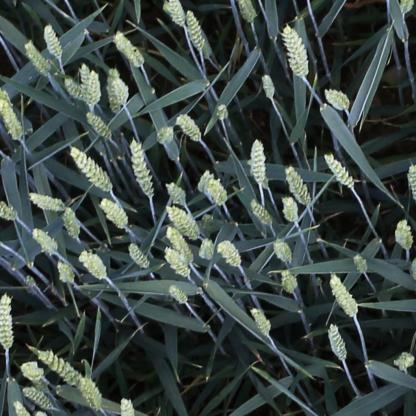whd: (70, 146, 112, 191), (37, 349, 84, 386), (199, 167, 236, 210), (130, 138, 154, 198), (246, 134, 272, 189), (330, 273, 360, 319), (284, 25, 308, 80), (0, 87, 23, 141), (324, 151, 356, 189), (0, 295, 21, 352), (167, 204, 200, 240), (167, 225, 196, 265), (114, 31, 145, 67), (286, 164, 312, 206), (109, 68, 134, 109), (325, 322, 348, 363), (24, 40, 51, 74), (81, 379, 105, 415), (164, 248, 192, 278), (43, 22, 64, 62), (100, 198, 128, 228), (86, 110, 113, 141), (186, 8, 204, 52), (63, 77, 93, 103), (79, 252, 106, 280), (162, 0, 188, 29), (217, 240, 243, 268), (250, 306, 272, 339), (22, 387, 53, 410), (176, 115, 202, 142), (250, 198, 274, 227), (32, 228, 59, 253), (128, 241, 151, 270), (27, 192, 64, 210), (62, 204, 80, 240), (394, 221, 416, 250), (281, 268, 304, 295), (166, 181, 188, 206), (55, 259, 75, 286), (394, 350, 414, 376), (274, 239, 292, 266), (325, 89, 350, 108), (262, 70, 276, 100), (284, 194, 298, 224), (168, 285, 189, 305), (19, 363, 41, 382), (80, 60, 90, 100), (0, 198, 16, 222), (353, 252, 369, 276), (90, 67, 100, 105), (199, 236, 213, 263), (239, 1, 256, 23), (157, 125, 174, 144), (408, 163, 416, 201), (121, 395, 133, 416), (400, 0, 414, 16), (218, 101, 228, 121)
